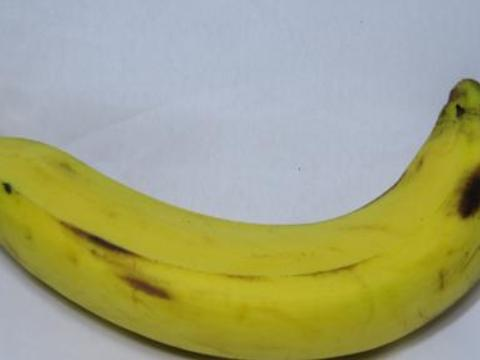freshripe: (0, 59, 479, 359)
